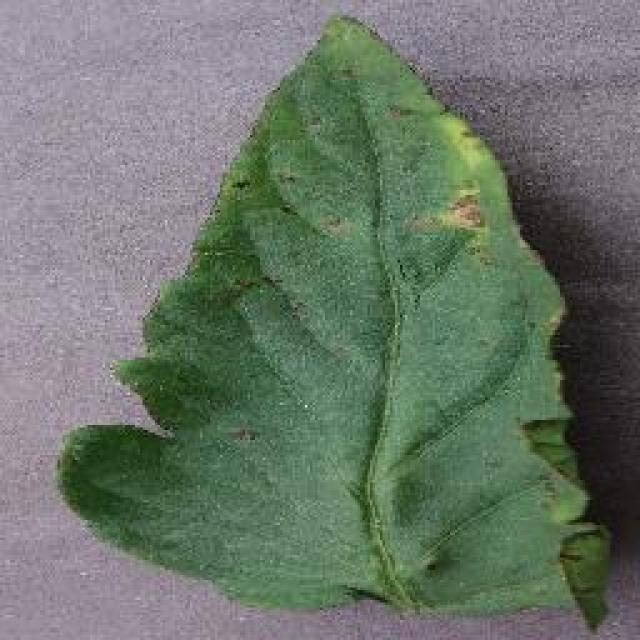Tomato bacterial spot leaf: (89, 24, 621, 621)
